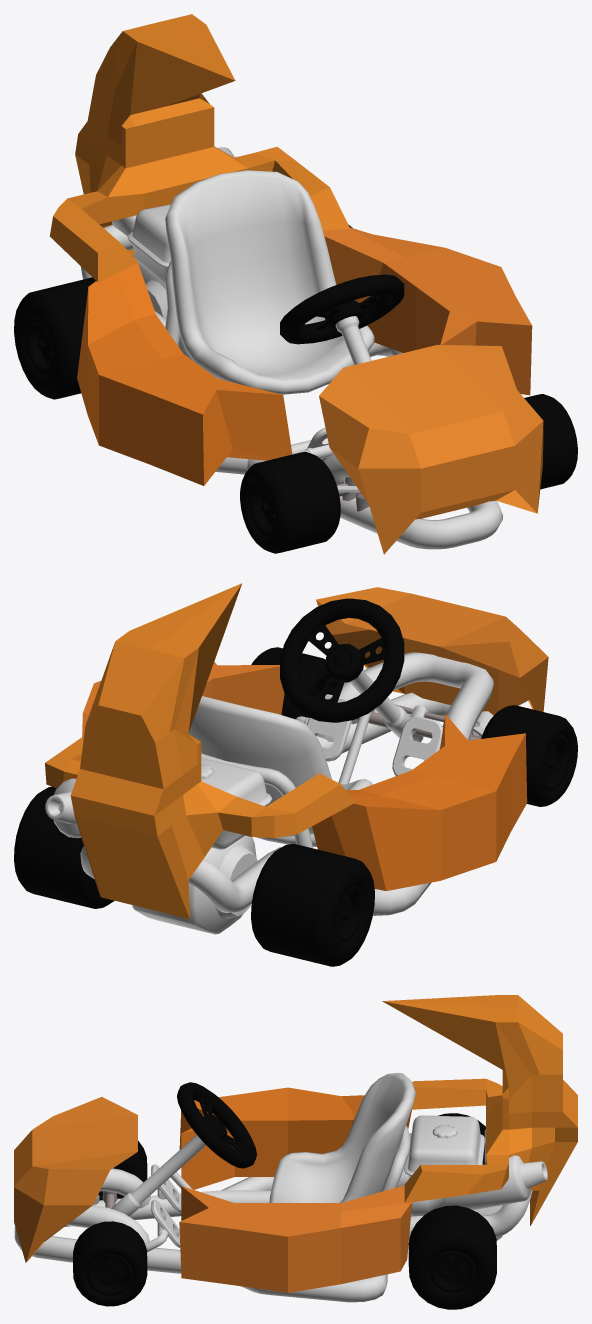
The model's file is kart escorpião.fbx.
The picture shows the model from 3 angles, top to bottom: view 1: azimuth 30°, elevation 25°; view 2: azimuth 150°, elevation 25°; view 3: azimuth 270°, elevation 25°; orthographic projection. The views are drawn at different scales.
Visible parts, largest first — view 1: Kart_Body, Cube.003, Cube.002, Cube.001, Cube; view 2: Kart_Body, Cube.002, Cube.001, Cube.003, Cube; view 3: Kart_Body, Cube.002, Cube, Cube.003, Cube.001.
Boxes of the visible parts, <box> form: Kart_Body: <box>14,147,577,553</box>; Cube.003: <box>319,344,543,554</box>; Cube.002: <box>49,14,350,282</box>; Cube.001: <box>77,263,292,485</box>; Cube: <box>323,227,532,395</box>; Kart_Body: <box>14,598,577,966</box>; Cube.002: <box>45,583,355,919</box>; Cube.001: <box>312,714,527,890</box>; Cube.003: <box>316,587,548,715</box>; Cube: <box>82,662,284,736</box>; Kart_Body: <box>14,1072,547,1309</box>; Cube.002: <box>382,995,577,1225</box>; Cube: <box>179,1185,411,1292</box>; Cube.003: <box>14,1097,137,1262</box>; Cube.001: <box>179,1087,411,1189</box>.
Size of the model in its own units: 137 by 102 by 209.
